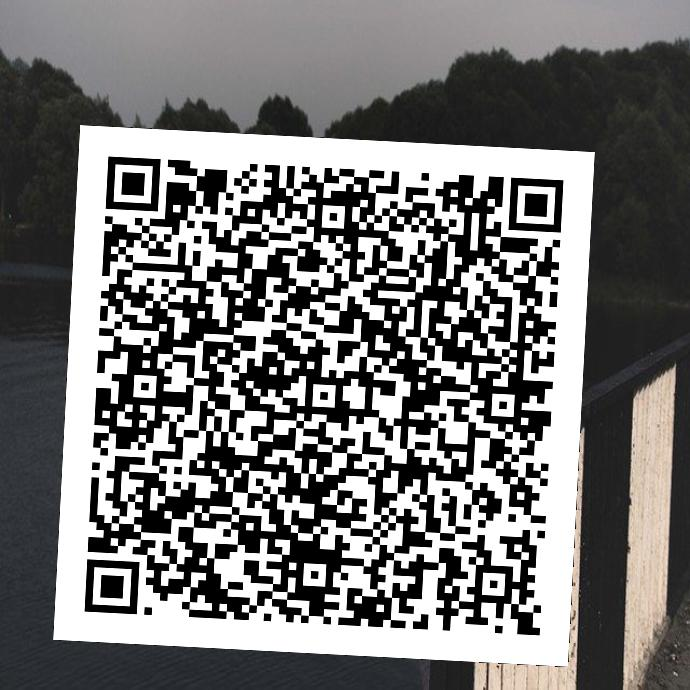qr_code: (53, 125, 594, 666)
